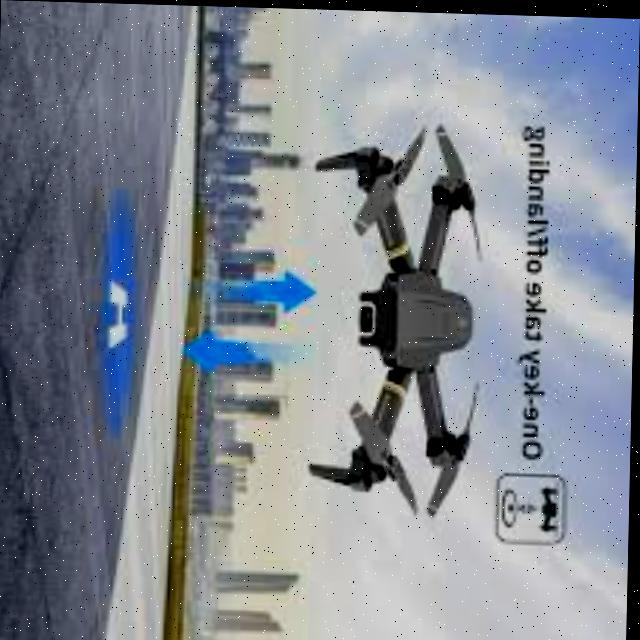drone: (290, 125, 509, 525)
